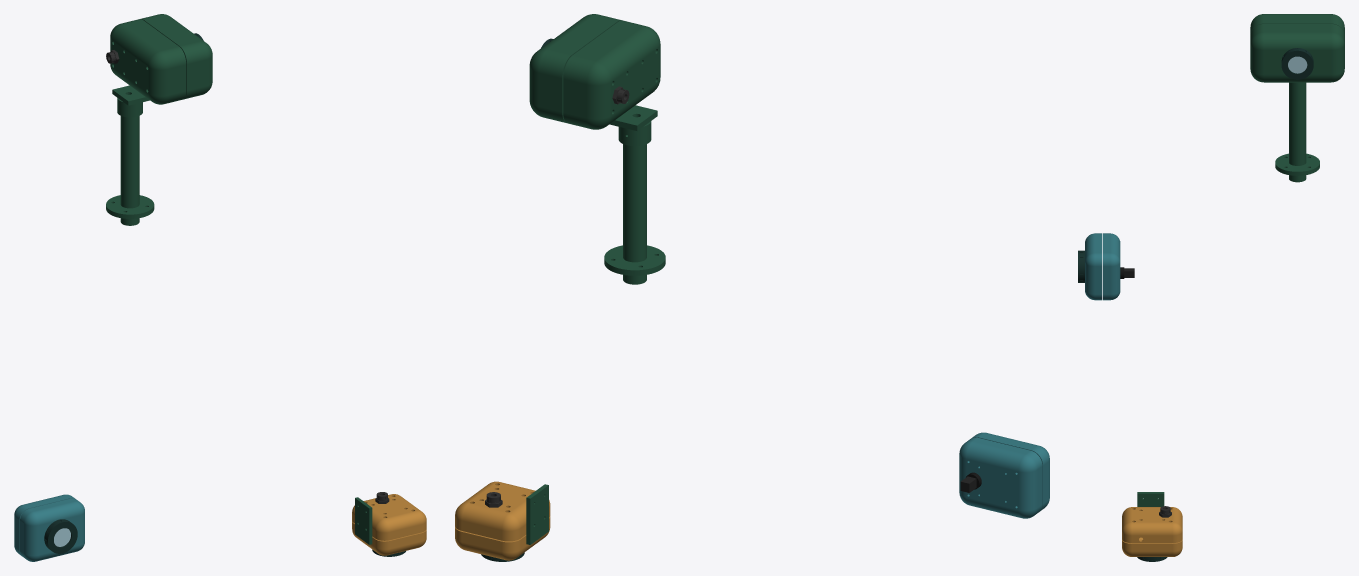
File: preview_sensing.glb
3 renders of one model, left to right at view 1: azimuth 30°, elevation 25°; view 2: azimuth 150°, elevation 25°; view 3: azimuth 270°, elevation 25°, orthographic. The views are drawn at different scales.
Visible parts, largest first — view 1: camera01_housing_rear, camera03_housing_front, camera01_housing_front, camera02_housing_rear, camera_mast, camera02_housing_front, mast_head_clamp, mast_flange, camera02_bracket, camera03_bezel, camera03_housing_rear; view 2: camera01_housing_rear, camera03_housing_rear, camera01_housing_front, camera02_housing_rear, camera_mast, camera02_housing_front, mast_head_clamp, mast_flange, camera02_bracket, camera03_housing_front; view 3: camera01_housing_front, camera02_housing_rear, camera_mast, camera03_housing_front, camera03_housing_rear, camera01_housing_rear, camera02_housing_front, mast_flange, camera01_bezel, camera02_bracket.
Part boxes in pixels (x1,y1,x2,y2): camera01_housing_rear: (110,19,186,104); camera03_housing_front: (20,498,84,561); camera01_housing_front: (141,14,212,99); camera02_housing_rear: (352,494,426,540); camera_mast: (120,116,139,225); camera02_housing_front: (352,521,426,555); mast_head_clamp: (112,85,149,117); mast_flange: (106,195,154,218); camera02_bracket: (355,497,372,544); camera03_bezel: (44,519,77,553); camera03_housing_rear: (14,494,75,555); camera01_housing_rear: (563,20,660,129); camera03_housing_rear: (959,437,1042,518); camera01_housing_front: (529,14,621,122); camera02_housing_rear: (455,481,550,541); camera_mast: (623,144,646,284); camera02_housing_front: (455,516,550,560); mast_head_clamp: (609,105,657,146); mast_flange: (604,245,665,275); camera02_bracket: (526,484,548,544); camera03_housing_front: (971,432,1049,511); camera01_housing_front: (1250,24,1344,82); camera02_housing_rear: (1122,507,1182,543); camera_mast: (1289,82,1306,182); camera03_housing_front: (1085,233,1102,300); camera03_housing_rear: (1103,233,1120,300); camera01_housing_rear: (1250,14,1344,35); camera02_housing_front: (1122,537,1182,556); mast_flange: (1275,153,1319,175); camera01_bezel: (1281,48,1313,79); camera02_bracket: (1137,492,1164,506).
Bounding box in the file's own units: 606 × 682 × 356.
